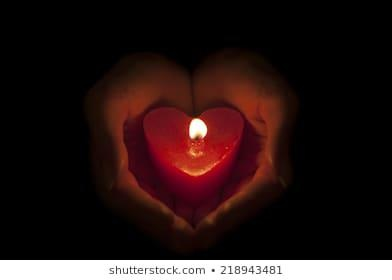fire: (182, 112, 211, 149)
